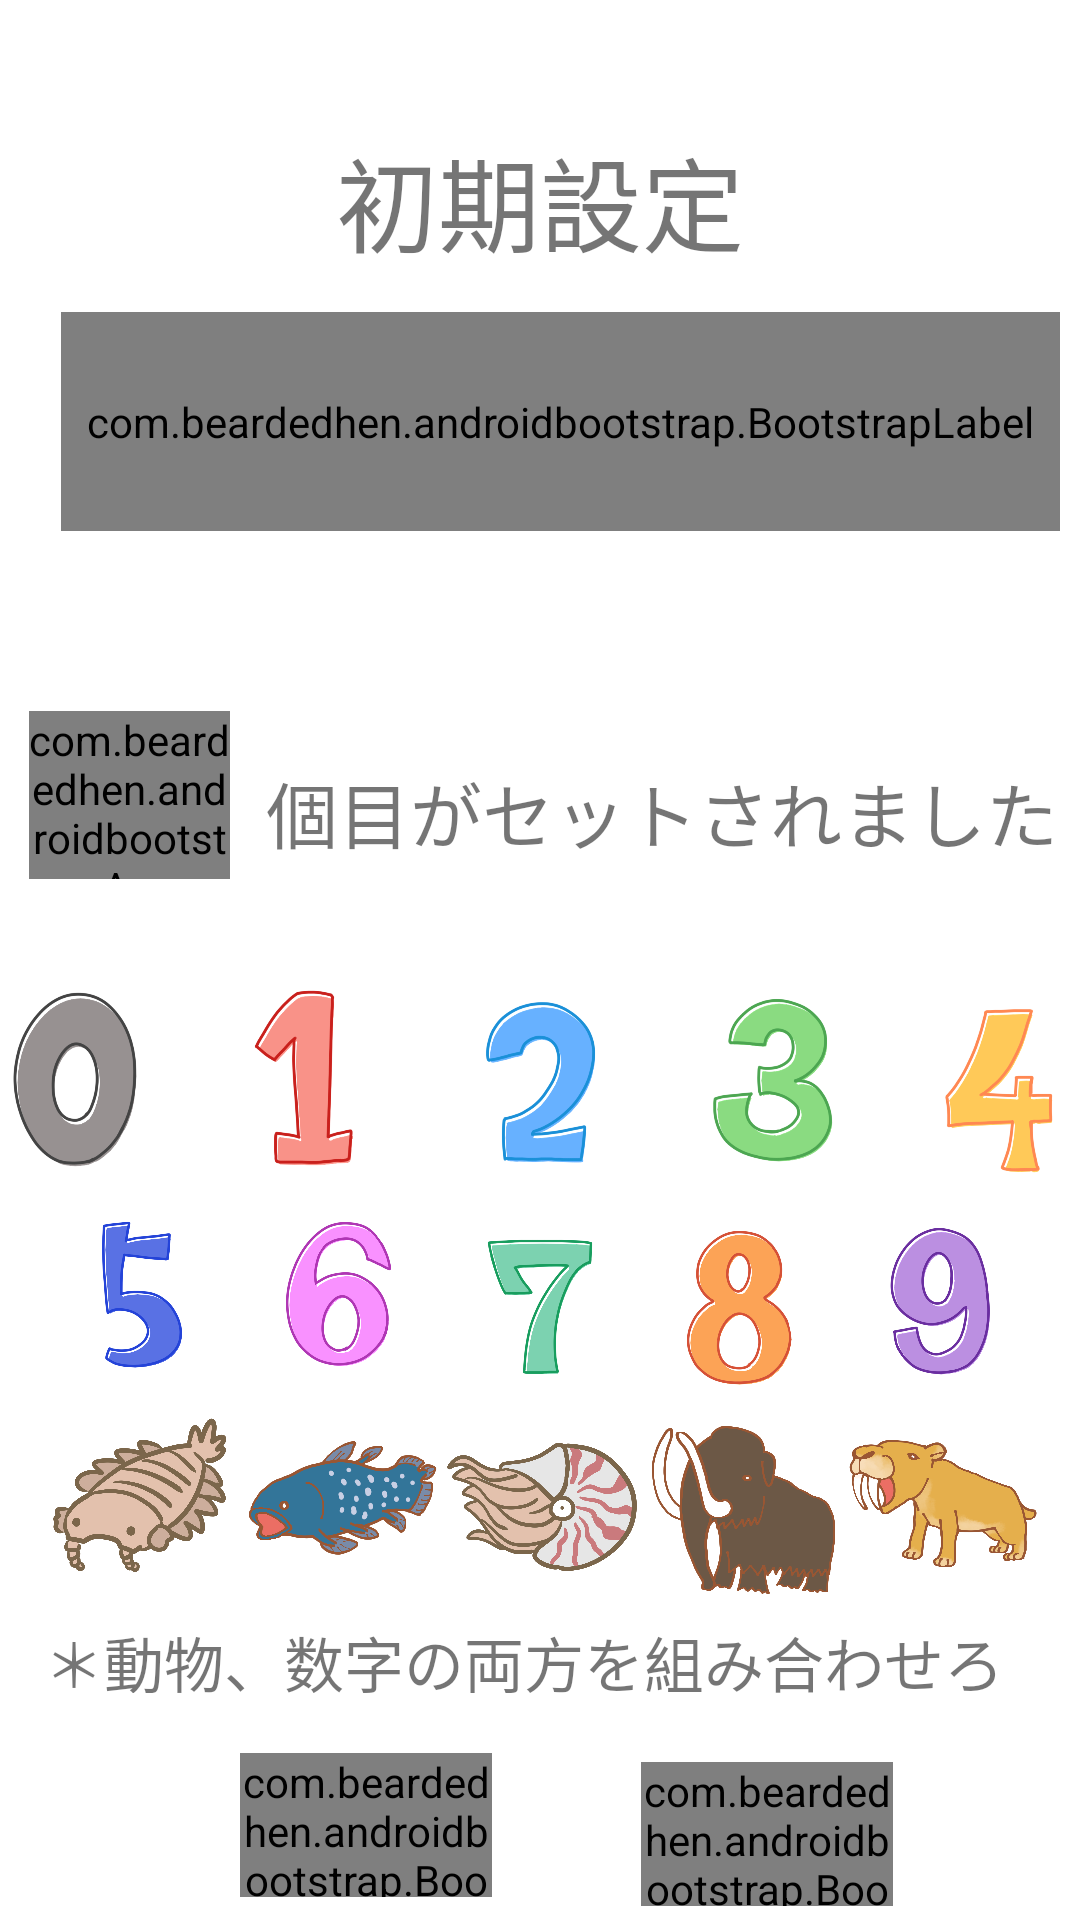

Icon bounding boxes for this 1080*1920 phone screenshot, format (x1, y1, x2, y2):
anomalocaris: (53, 1418, 226, 1572)
coelacanth: (249, 1441, 436, 1555)
mammoth: (652, 1426, 835, 1594)
nautilus: (447, 1443, 637, 1571)
smilodon: (849, 1440, 1037, 1567)
